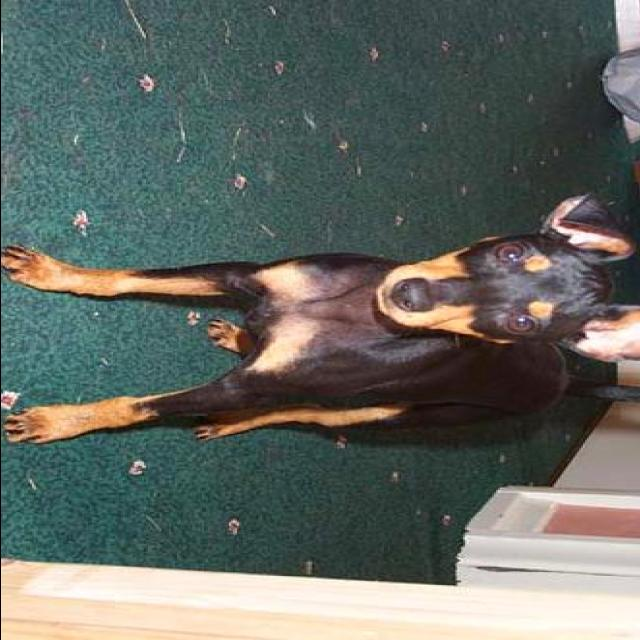toy_terrier: (6, 187, 638, 453)
